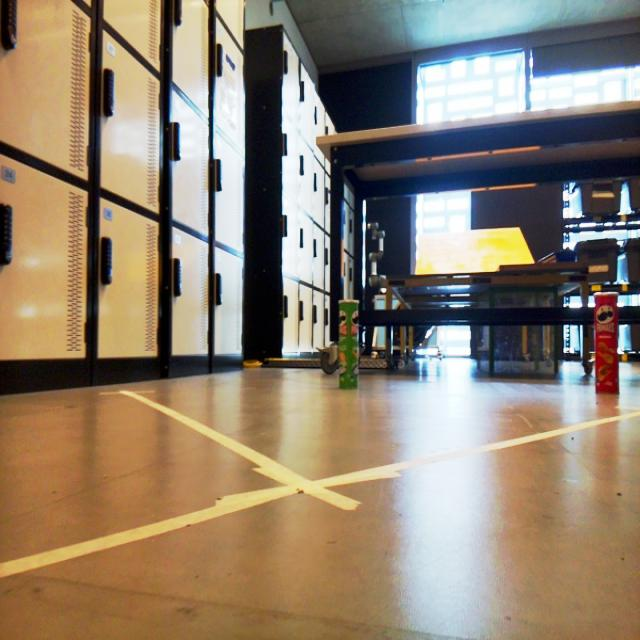greenpringles: (335, 284, 371, 390)
redpringles: (586, 281, 632, 406)
